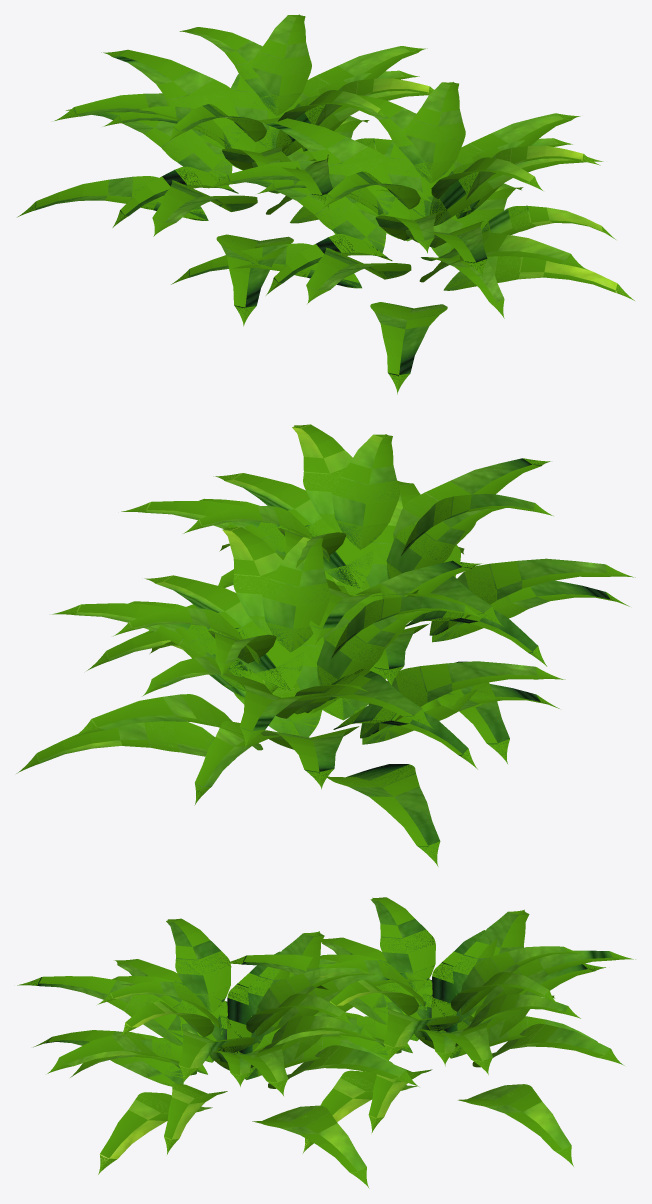
Rendered from plant3.fbx.
3 views of the same model, one above another, from view 1: azimuth 30°, elevation 25°; view 2: azimuth 150°, elevation 25°; view 3: azimuth 270°, elevation 25° (orthographic). The views are drawn at different scales.
Visible parts, largest first — view 1: Model; view 2: Model; view 3: Model.
Part boxes in pixels (<box>): Model: <box>17,14,634,394</box>; Model: <box>16,424,635,866</box>; Model: <box>17,897,635,1188</box>.
Size of the model in its own units: 17.6 by 5.67 by 23.47.
